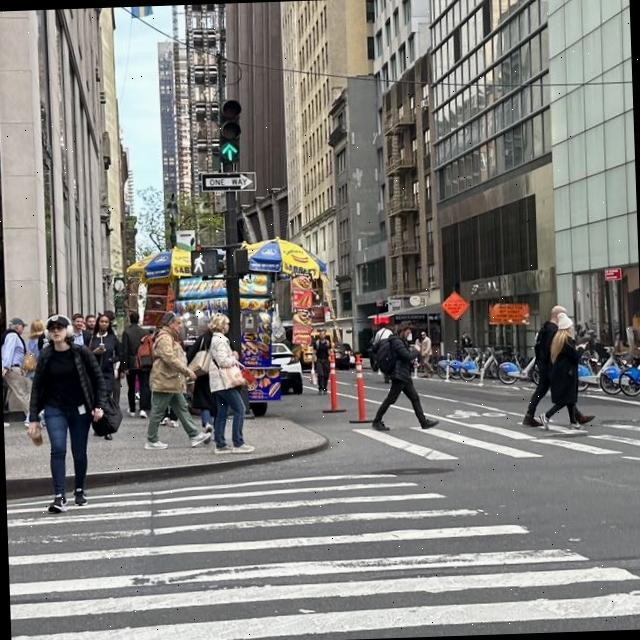curb: (86, 441, 327, 486), (5, 477, 49, 499)
